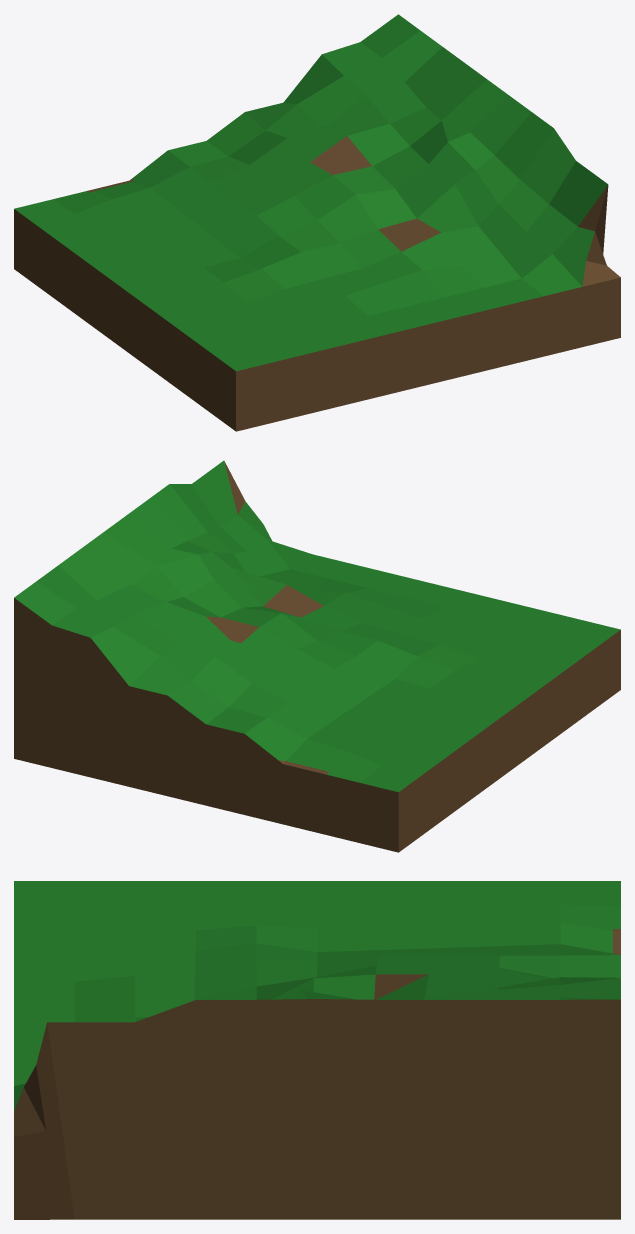
File: Elev_Curve_EP.fbx
3 views of the same model, one above another, from view 1: azimuth 30°, elevation 25°; view 2: azimuth 150°, elevation 25°; view 3: azimuth 270°, elevation 25° (orthographic). The views are drawn at different scales.
Parts seen in each view (by area): view 1: Elev_Curve_EP; view 2: Elev_Curve_EP; view 3: Elev_Curve_EP.
Boxes of the visible parts, x1=… form: Elev_Curve_EP: x1=14, y1=14, x2=620, y2=431; Elev_Curve_EP: x1=14, y1=460, x2=620, y2=852; Elev_Curve_EP: x1=14, y1=881, x2=620, y2=1219.
Bounding box in the file's own units: 200 × 80.14 × 200.
